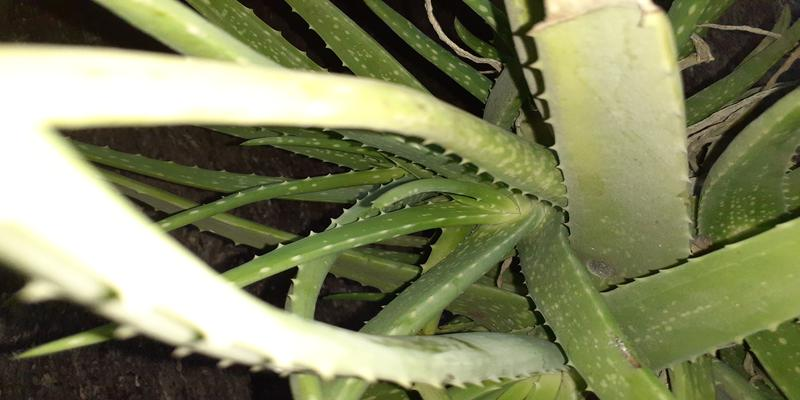Aloevera: (187, 29, 785, 370)
